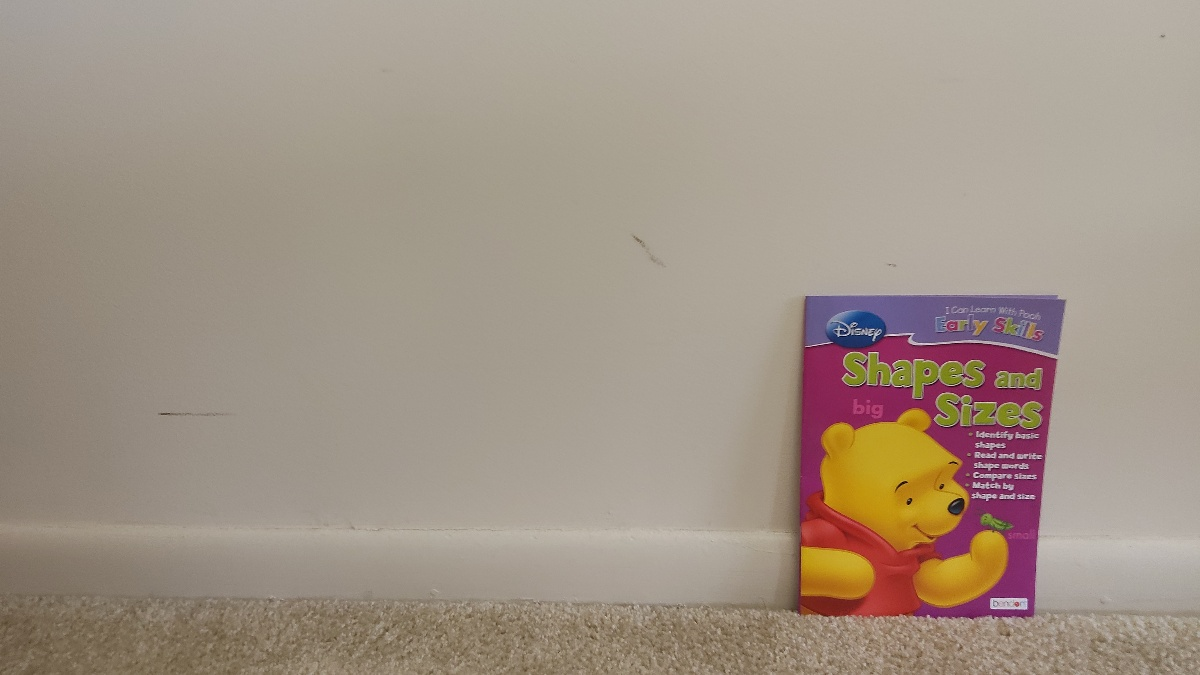book: (807, 298, 1036, 616)
